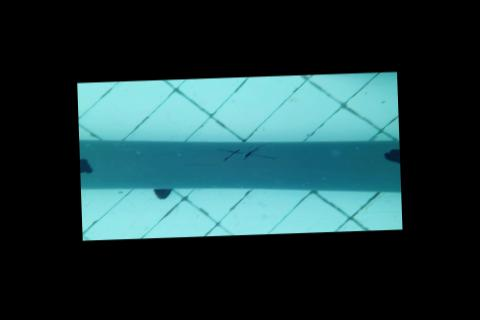kebocoran: (381, 145, 400, 166), (79, 156, 93, 173)
keretakan: (218, 143, 278, 162)
